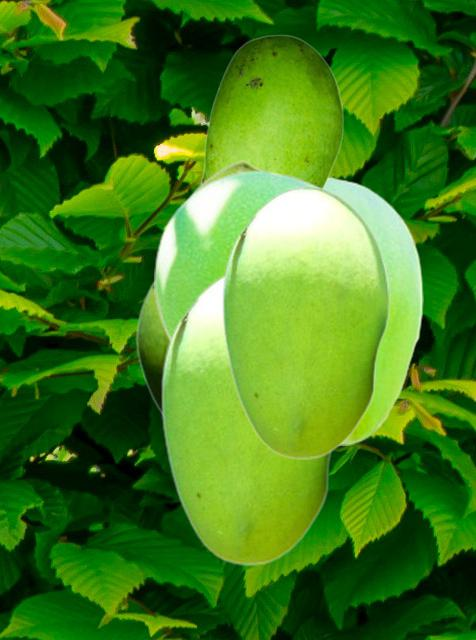green_mango: (160, 272, 333, 564), (183, 159, 374, 421), (221, 185, 389, 458), (154, 169, 324, 342), (325, 175, 422, 444), (200, 34, 343, 186), (135, 277, 167, 415)
